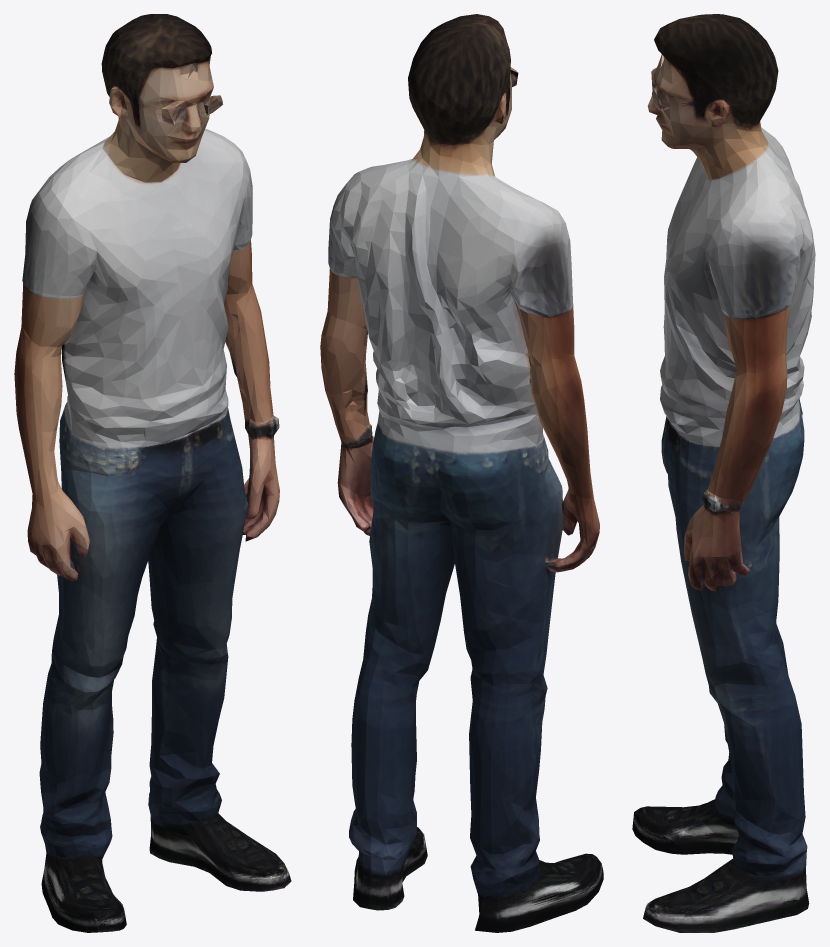
The model's file is rowan-06.glb.
The picture shows the model from 3 angles, left to right: view 1: azimuth 30°, elevation 25°; view 2: azimuth 150°, elevation 25°; view 3: azimuth 270°, elevation 25°; orthographic projection.
Parts seen in each view (by area): view 1: world; view 2: world; view 3: world.
Part boxes in pixels (<box>): world: <box>14,14,291,932</box>; world: <box>320,14,603,932</box>; world: <box>632,14,815,932</box>.
Bounding box in the file's own units: 0.3035 × 1 × 0.1926.
1 material, 1 textured.
